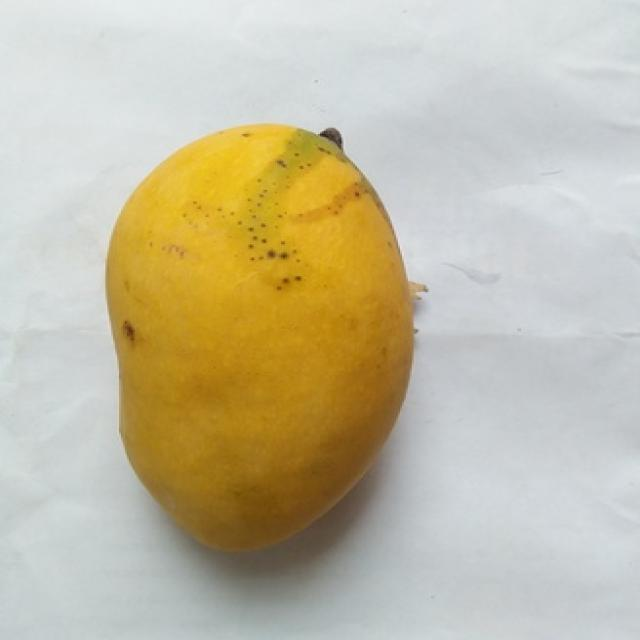Mango: (105, 124, 423, 551)
